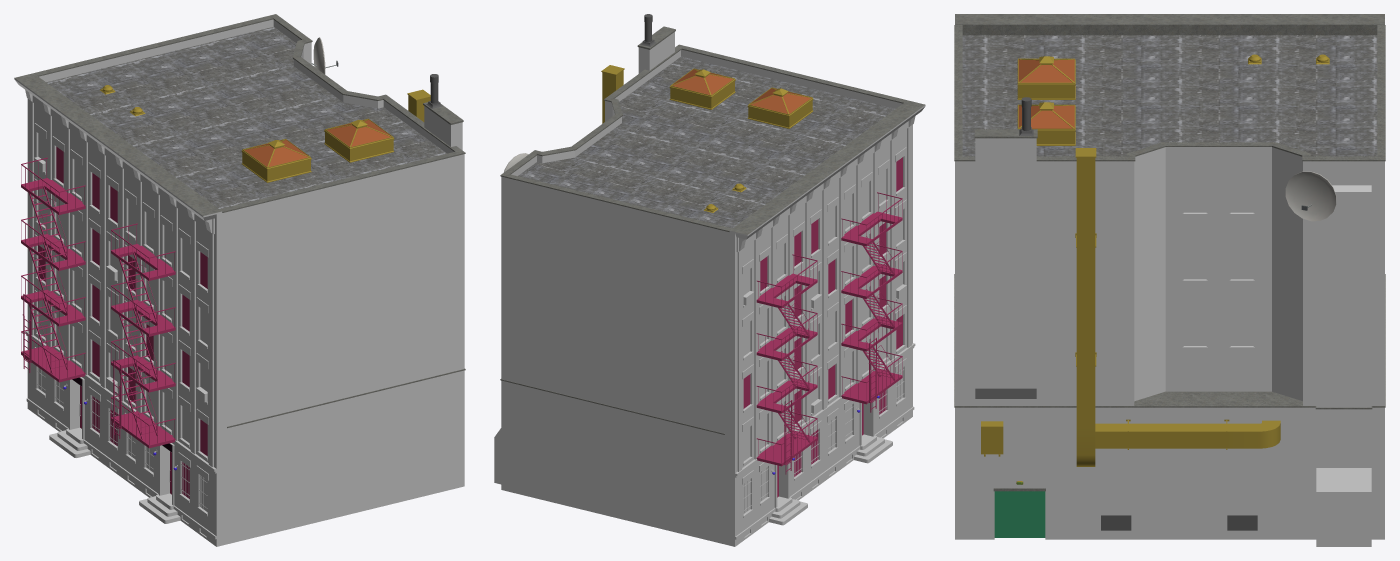
File: mcp_building_12_LOD_0.FBX
3 renders of one model, left to right at view 1: azimuth 30°, elevation 25°; view 2: azimuth 150°, elevation 25°; view 3: azimuth 270°, elevation 25°, orthographic. The views are drawn at different scales.
Parts seen in each view (by area): view 1: mcp_building_12_walls, mcp_building_12_roof, mcp_building_12, mcp_building_12_props_02, mcp_building_12_concrete_01, mcp_building_12_props_01, mcp_building_12_concrete_02; view 2: mcp_building_12_walls, mcp_building_12_roof, mcp_building_12, mcp_building_12_props_02, mcp_building_12_props_01, mcp_building_12_concrete_01, mcp_building_12_concrete_02; view 3: mcp_building_12_walls, mcp_building_12_roof, mcp_building_12_props_01, mcp_building_12, mcp_building_12_concrete_02, mcp_building_12_door, mcp_satellite_dish, mcp_building_12_props_02.
Part boxes in pixels (x1,y1,x2,y2): mcp_building_12_walls: (26, 19, 464, 544); mcp_building_12_roof: (46, 26, 446, 208); mcp_building_12: (14, 73, 222, 536); mcp_building_12_props_02: (21, 157, 175, 448); mcp_building_12_concrete_01: (26, 347, 226, 546); mcp_building_12_props_01: (100, 85, 430, 182); mcp_building_12_concrete_02: (34, 14, 465, 428); mcp_building_12_walls: (494, 32, 914, 544); mcp_building_12_roof: (518, 56, 895, 228); mcp_building_12: (729, 100, 925, 536); mcp_building_12_props_02: (756, 192, 902, 474); mcp_building_12_props_01: (601, 65, 813, 212); mcp_building_12_concrete_01: (725, 358, 914, 546); mcp_building_12_concrete_02: (500, 26, 906, 434); mcp_building_12_walls: (955, 138, 1384, 546); mcp_building_12_roof: (962, 35, 1377, 156); mcp_building_12_props_01: (981, 54, 1329, 484); mcp_building_12: (955, 14, 1384, 349); mcp_building_12_concrete_02: (954, 25, 1385, 491); mcp_building_12_door: (994, 491, 1045, 537); mcp_satellite_dish: (1285, 171, 1336, 221); mcp_building_12_props_02: (1101, 515, 1257, 530).
Bounding box in the file's own units: 2173 × 2638 × 2339.
